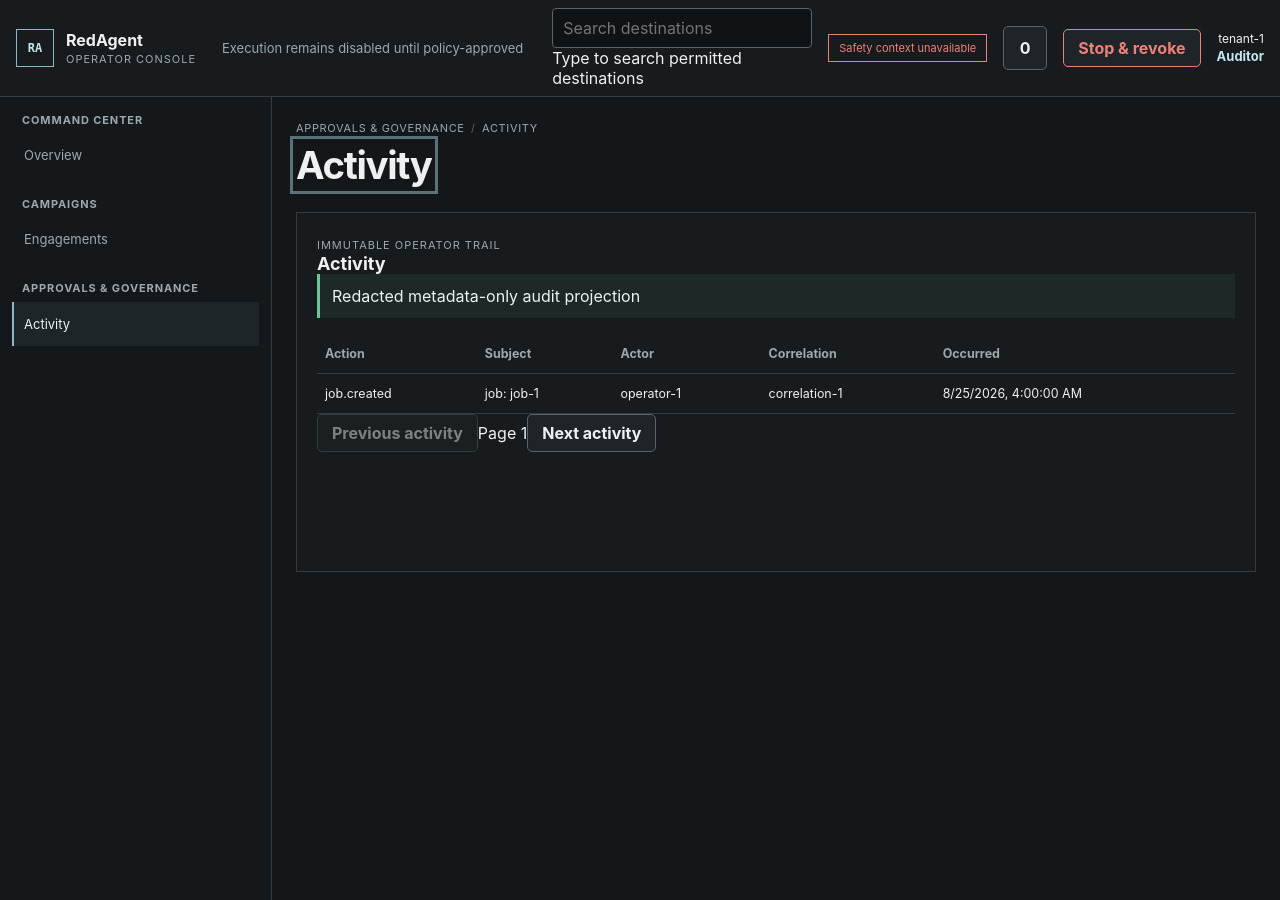
Test: activity console › pages through the redacted metadata-only audit projection
This screenshot has width=1280, height=900.
Expected: the text "job.created" is shown, x1=317 y1=373 x2=477 y2=413
Expected: the text "Redacted metadata-only audit projection" is shown, x1=317 y1=274 x2=1235 y2=318
Click the button "Next activity" at {"x": 592, "y": 433}, box x1=527 y1=414 x2=656 y2=452
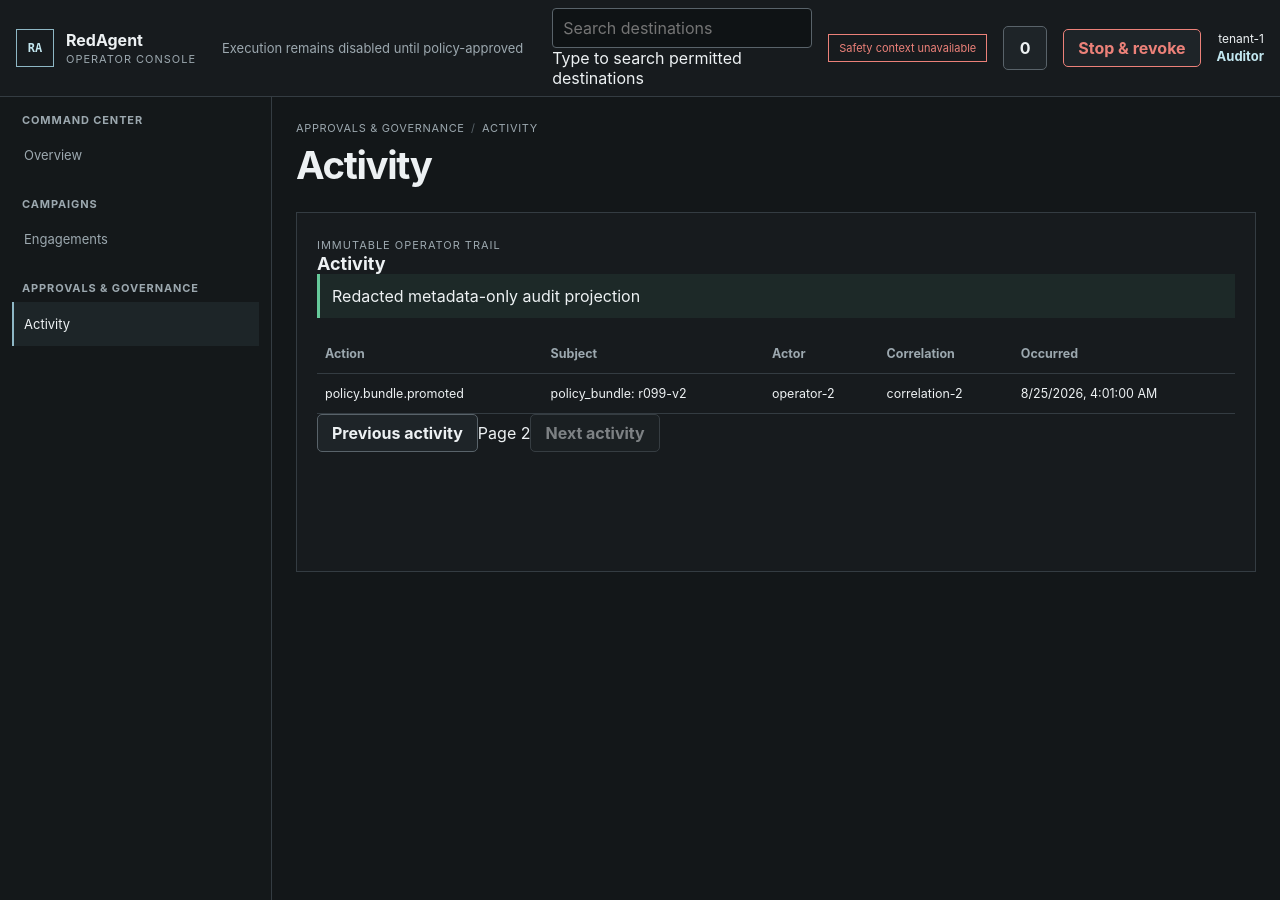
Expected: the text "policy.bundle.promoted" is shown, x1=317 y1=373 x2=543 y2=413
Expected: the text "Page 2" is shown, x1=478 y1=423 x2=530 y2=443
